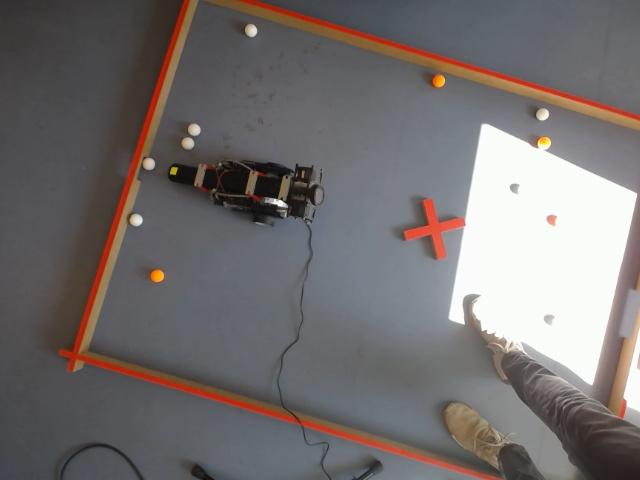orange: (431, 73, 446, 88), (149, 269, 165, 283)
robot: (169, 160, 325, 224)
robot-front: (168, 163, 192, 185)
white: (535, 107, 550, 122), (129, 213, 143, 227), (142, 157, 156, 171), (244, 23, 257, 38), (188, 123, 202, 136), (181, 137, 194, 150)
